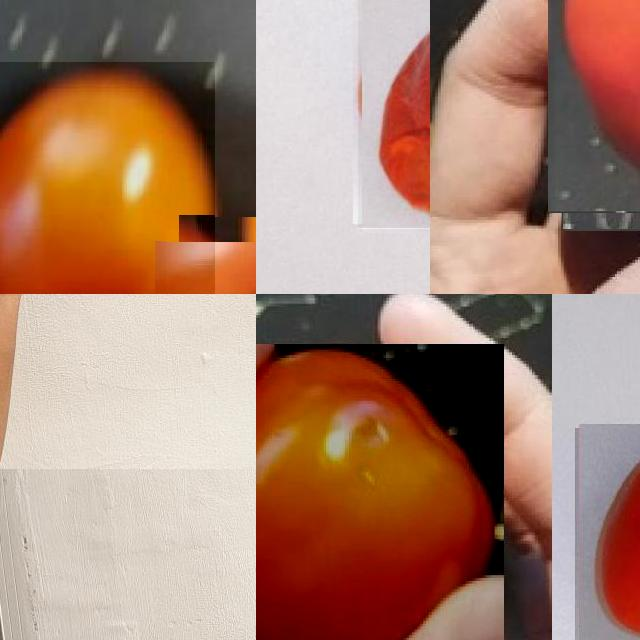0: (256, 344, 504, 640), (576, 426, 640, 640)
Fresh Tomato: (0, 62, 215, 294), (166, 229, 256, 294)
Rotten Tomato: (358, 0, 430, 228)
